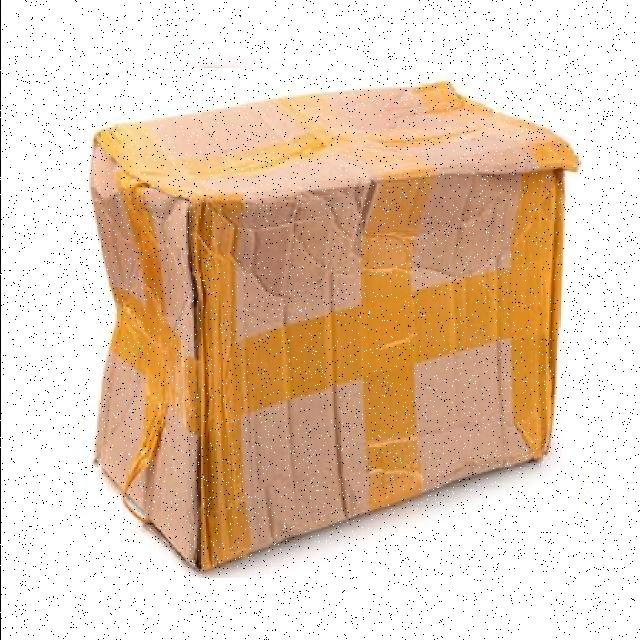defect: (88, 68, 582, 578)
